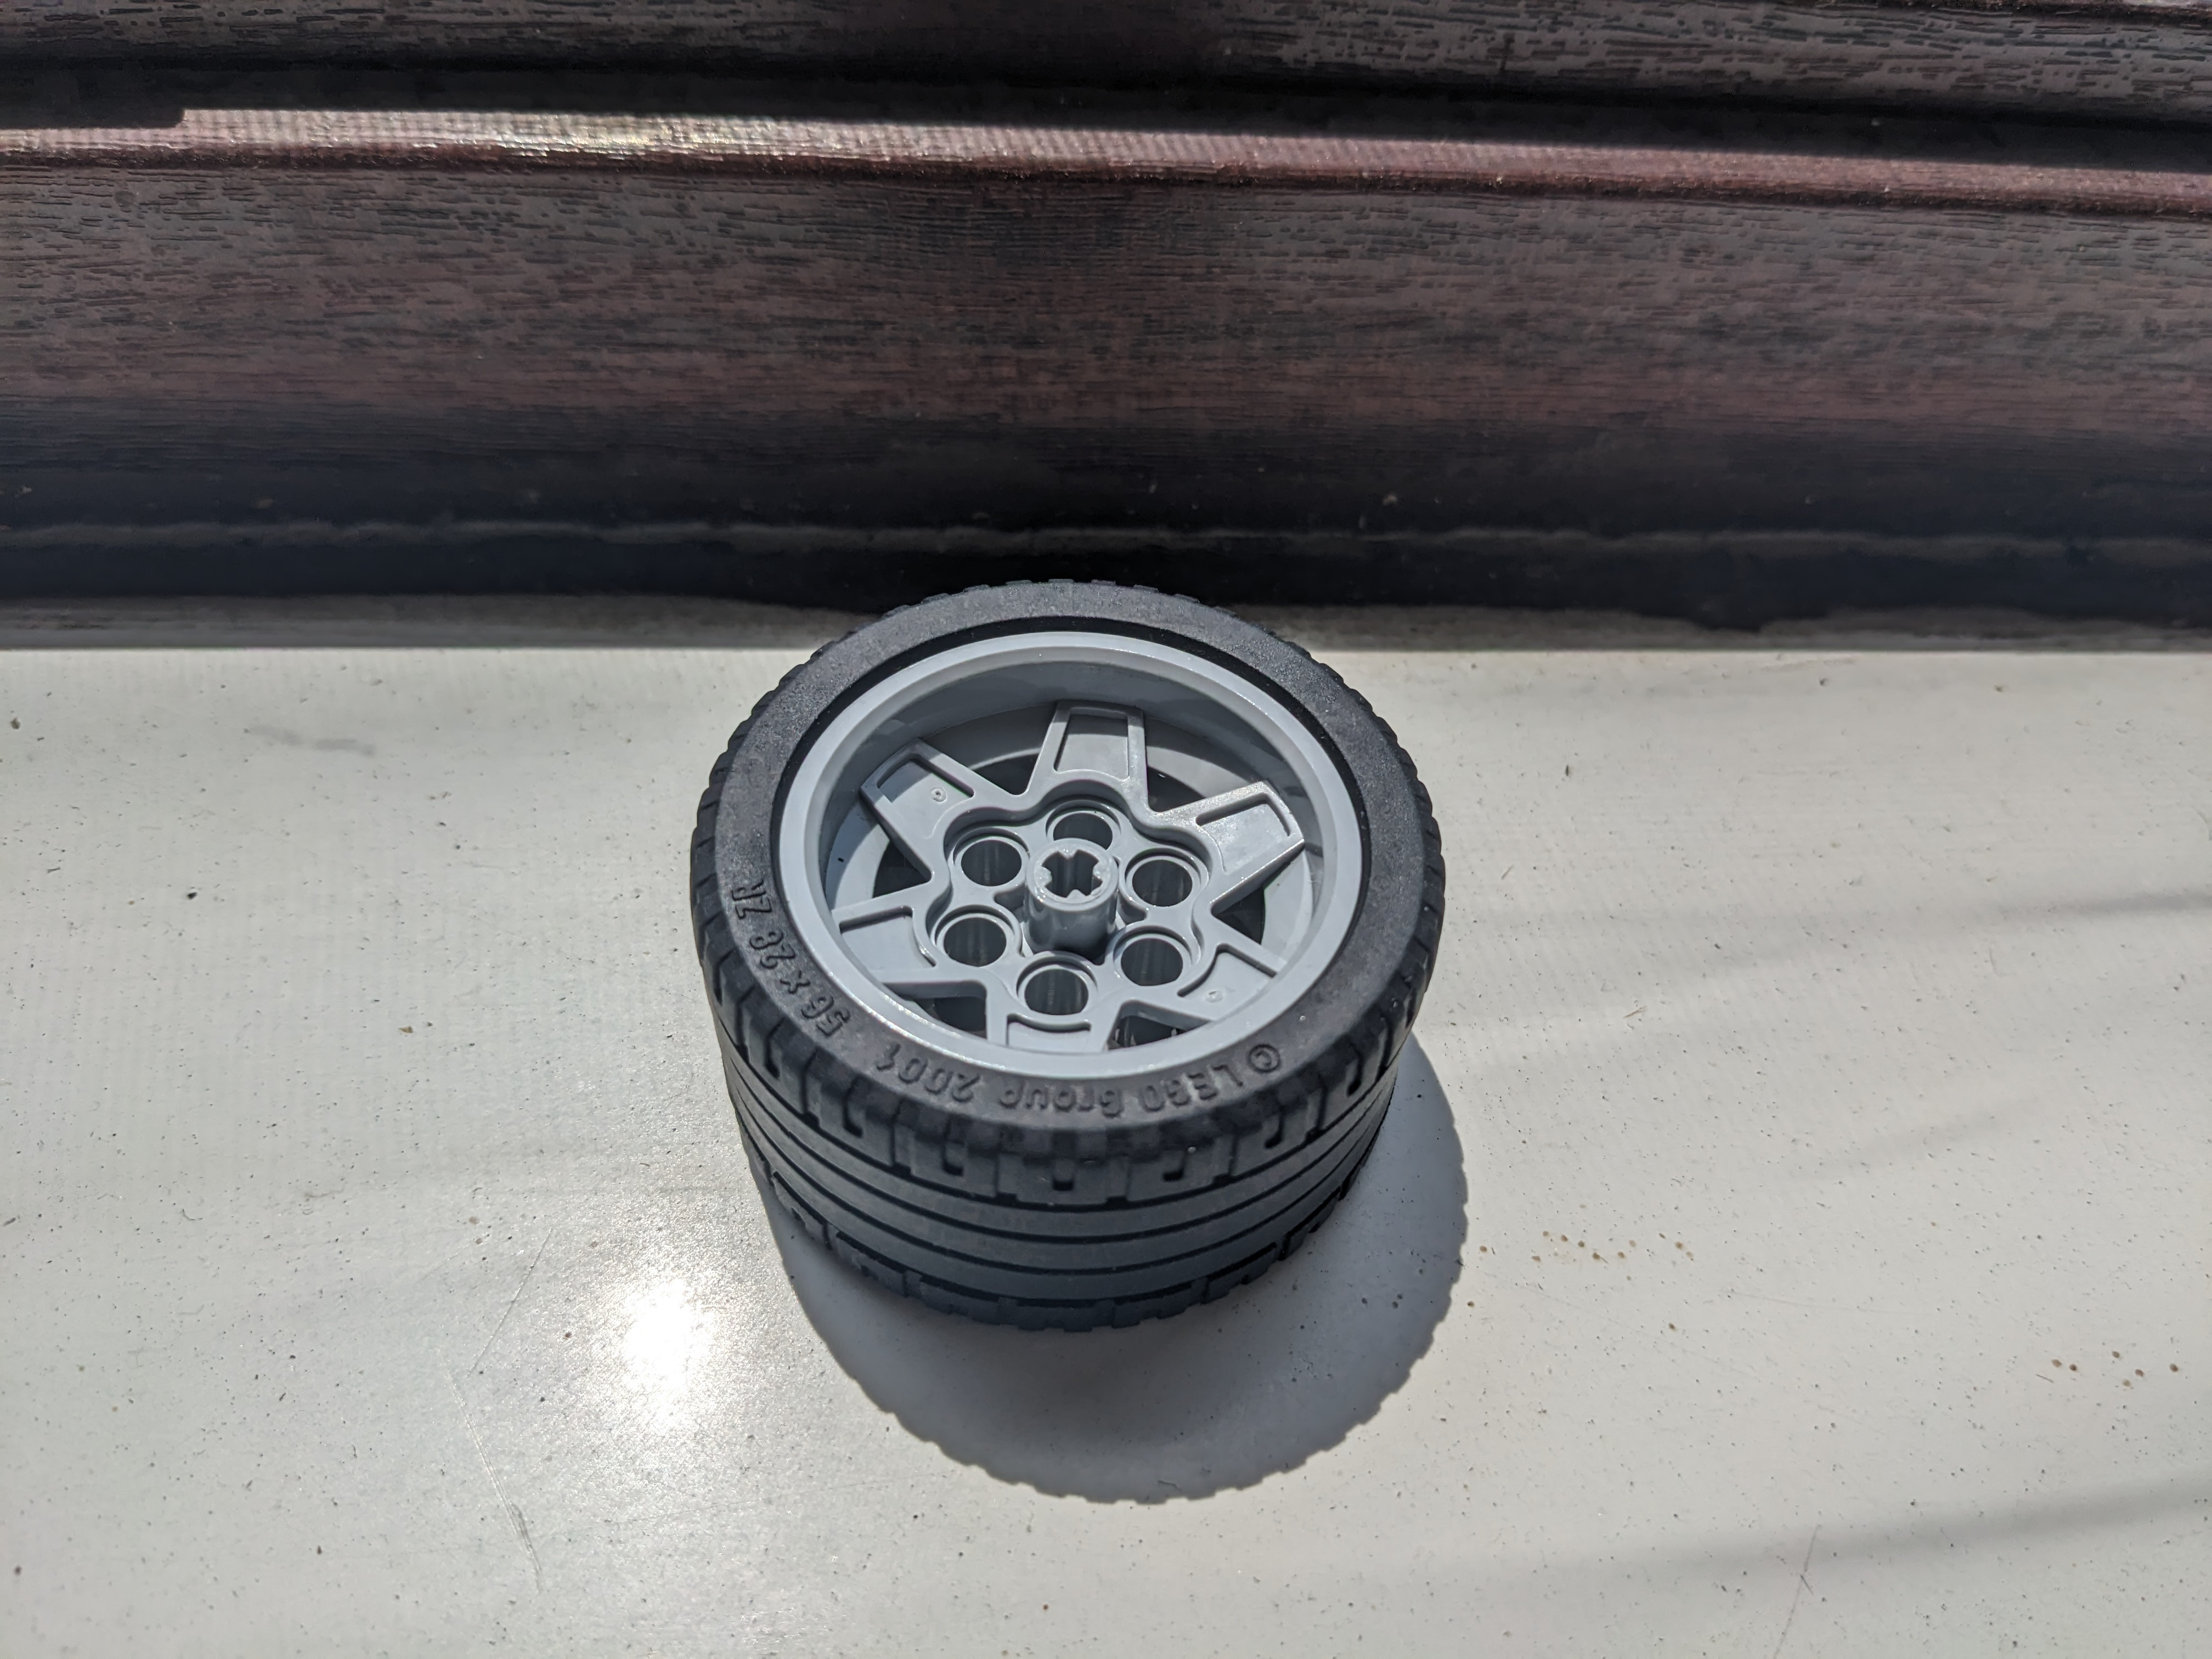Rad: (667, 552, 1467, 1361)
